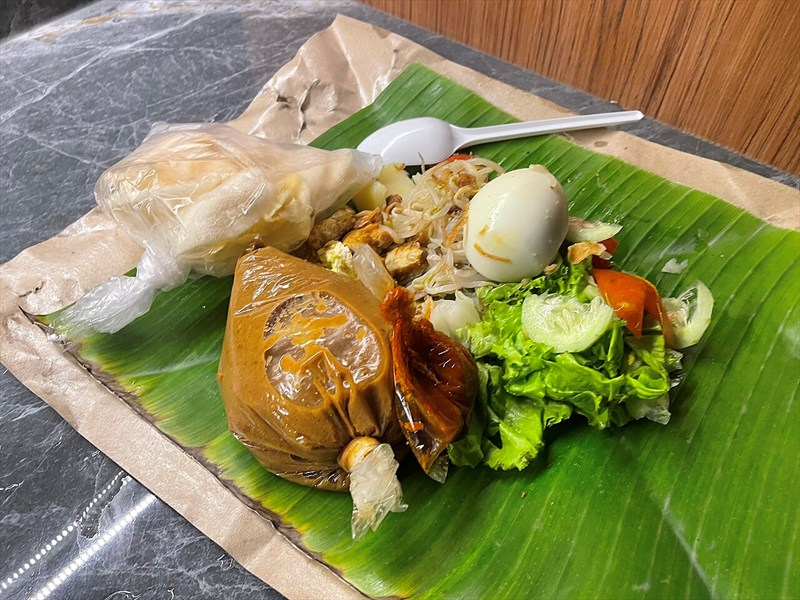Gado-Gado: (152, 109, 683, 511)
